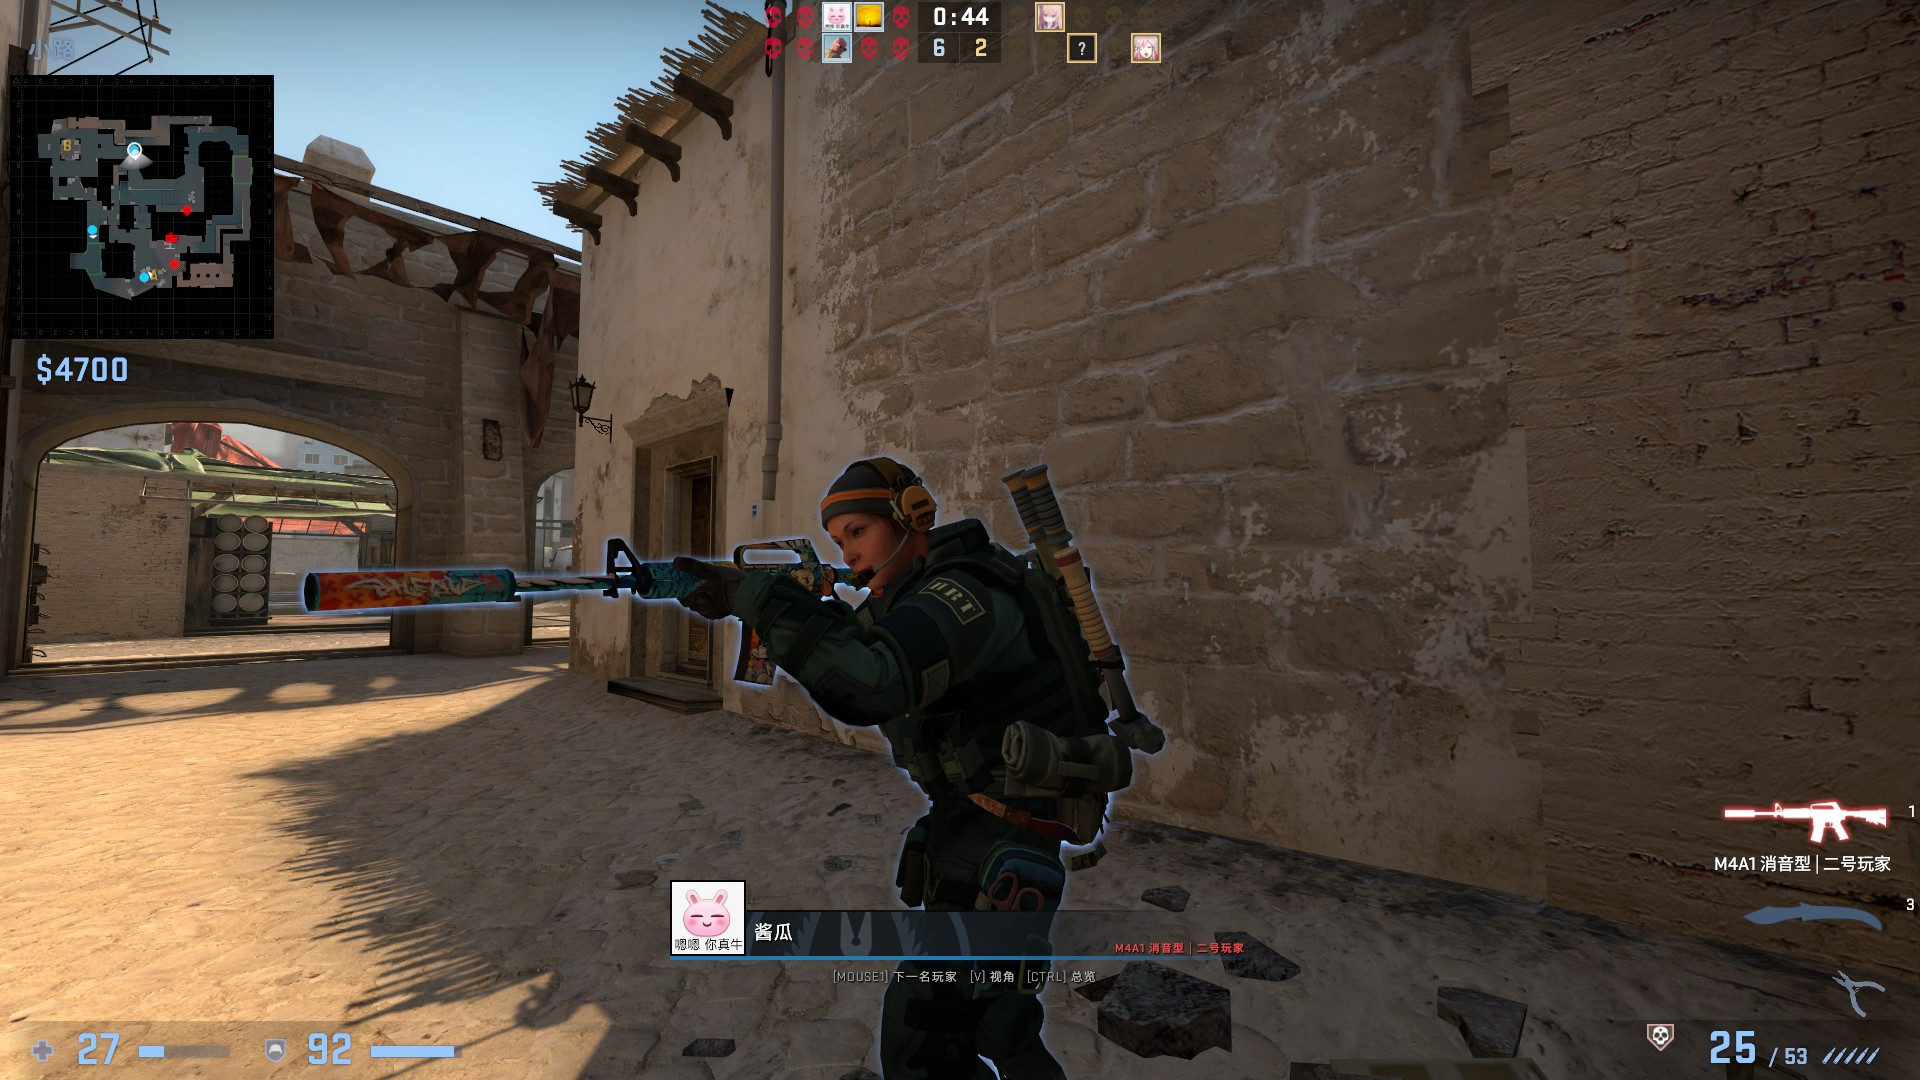head: (819, 453, 941, 593)
